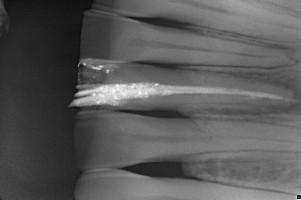Furcation Involvement: (260, 78, 301, 116)
